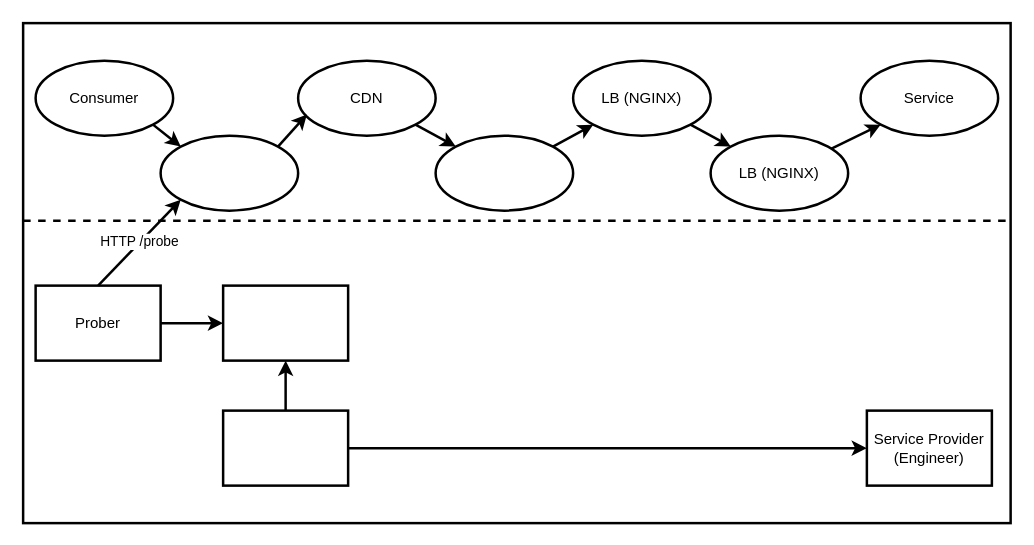
The diagram is 1034 pixels wide and 545 high, and some of its shapes have lost their labels. The box of each missing label's shape, as (x1, y1, x2, y2) in pixels:
DNS: (159, 134, 299, 211)
ELB: (434, 134, 574, 211)
Metrics (DD/Prometheus/ Etc): (221, 284, 349, 361)
Pagerduty: (221, 409, 349, 486)
